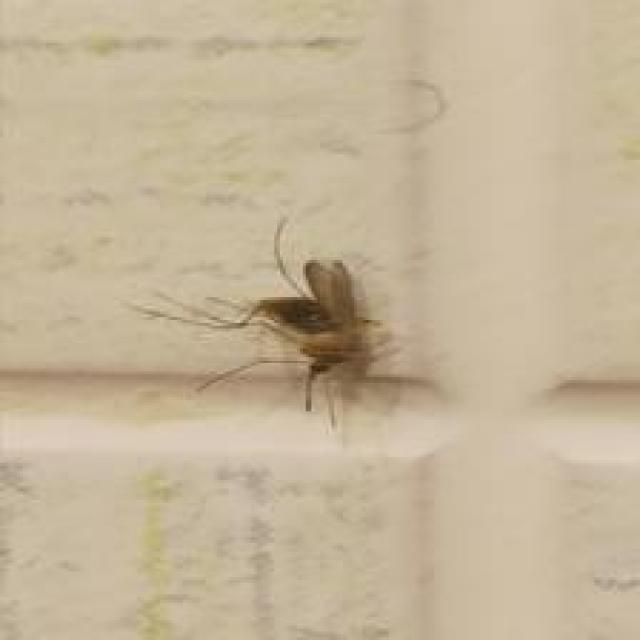Culex: (124, 213, 444, 433)
